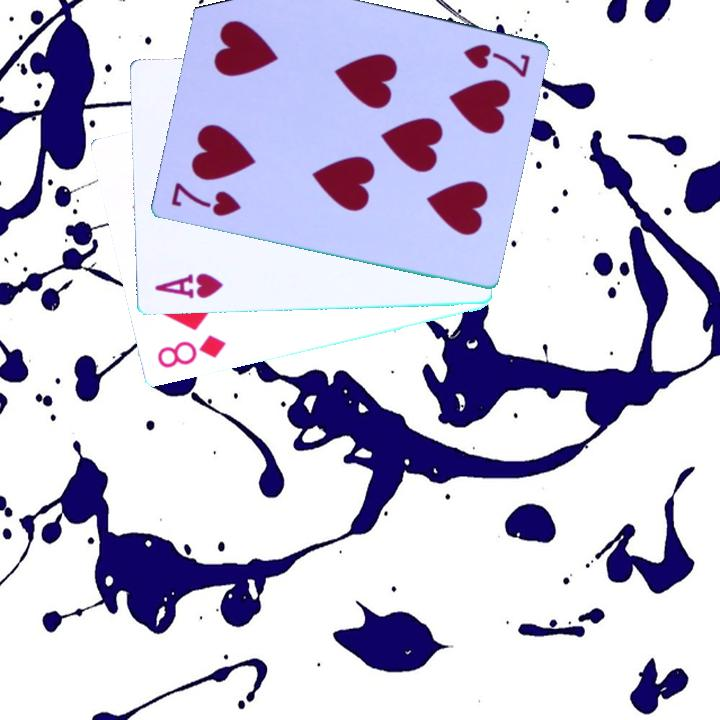7h: (167, 179, 243, 220), (459, 40, 533, 81)
8d: (153, 331, 229, 372)
Ah: (151, 270, 226, 302)
